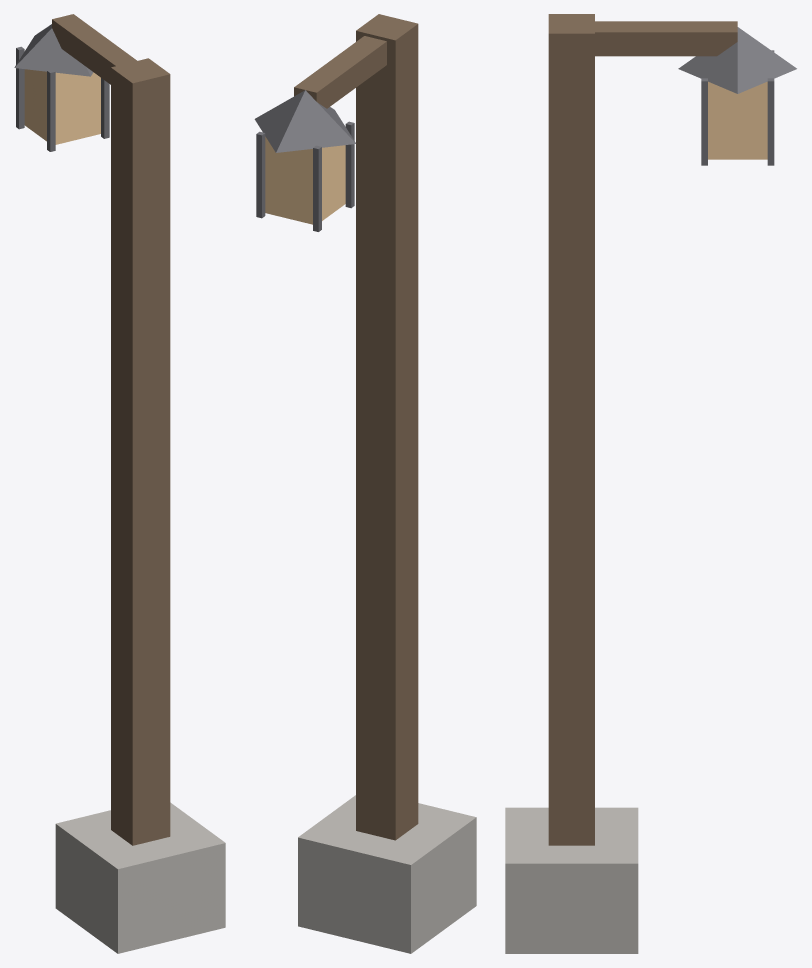
File: lamp.glb
3 renders of one model, left to right at view 1: azimuth 30°, elevation 25°; view 2: azimuth 150°, elevation 25°; view 3: azimuth 270°, elevation 25°, orthographic. The views are drawn at different scales.
Parts seen in each view (by area): view 1: lamp; view 2: lamp; view 3: lamp.
Part boxes in pixels (x1=…): lamp: x1=14, y1=14, x2=225, y2=953; lamp: x1=254, y1=14, x2=476, y2=953; lamp: x1=505, y1=14, x2=796, y2=953.
Size of the model in its own units: 0.3999 by 3 by 0.8801.
